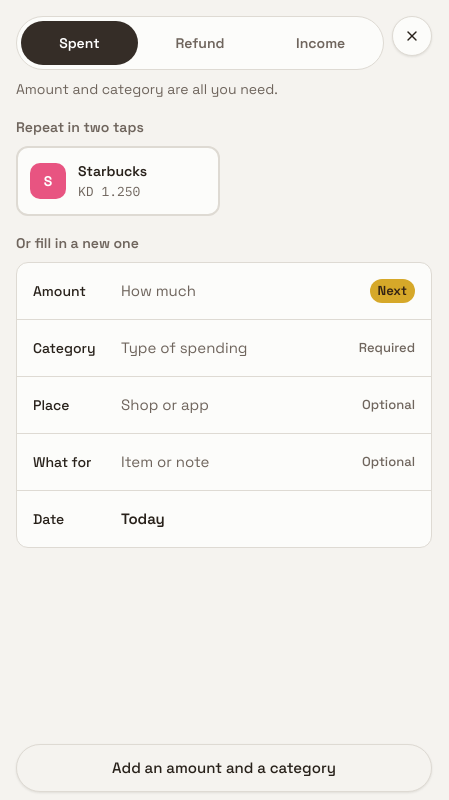
Test: /log Spent · Income (MOB-R112 D6) › Income mode shows Bonus, Commission and Other; no Salary tile, no places, no Category, Place or What for
Expected: the button "S Starbucks KD 1.250" is shown, [16, 146, 220, 216]
Click the button "Income" at [321, 43], box [262, 21, 379, 65]
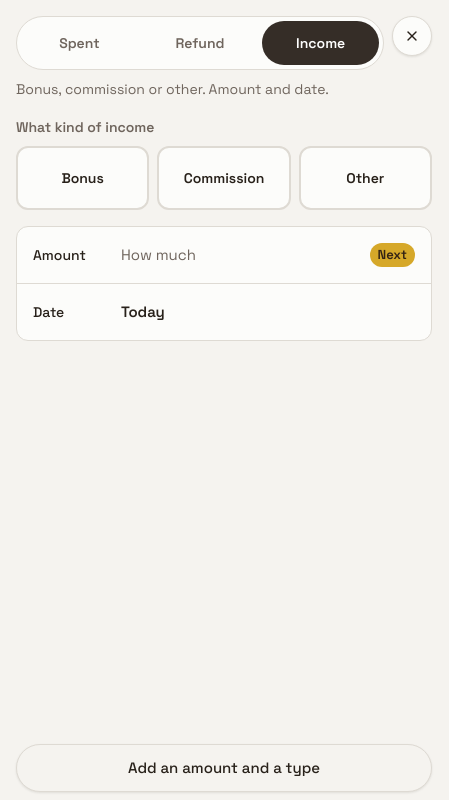
Expected: the buttons read "Bonus", "Commission", "Other", in this order, [16, 146, 149, 210]; [157, 146, 291, 210]; [299, 146, 432, 210]
Expected: the button "Starbucks" is gone
Expected: the button "Category" is gone
